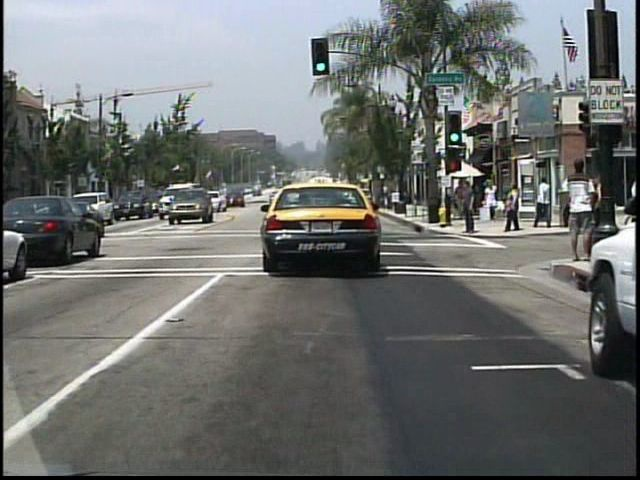person: (563, 156, 597, 262), (460, 182, 478, 238), (536, 175, 553, 229), (507, 182, 525, 232), (453, 180, 472, 226), (485, 179, 502, 225)
